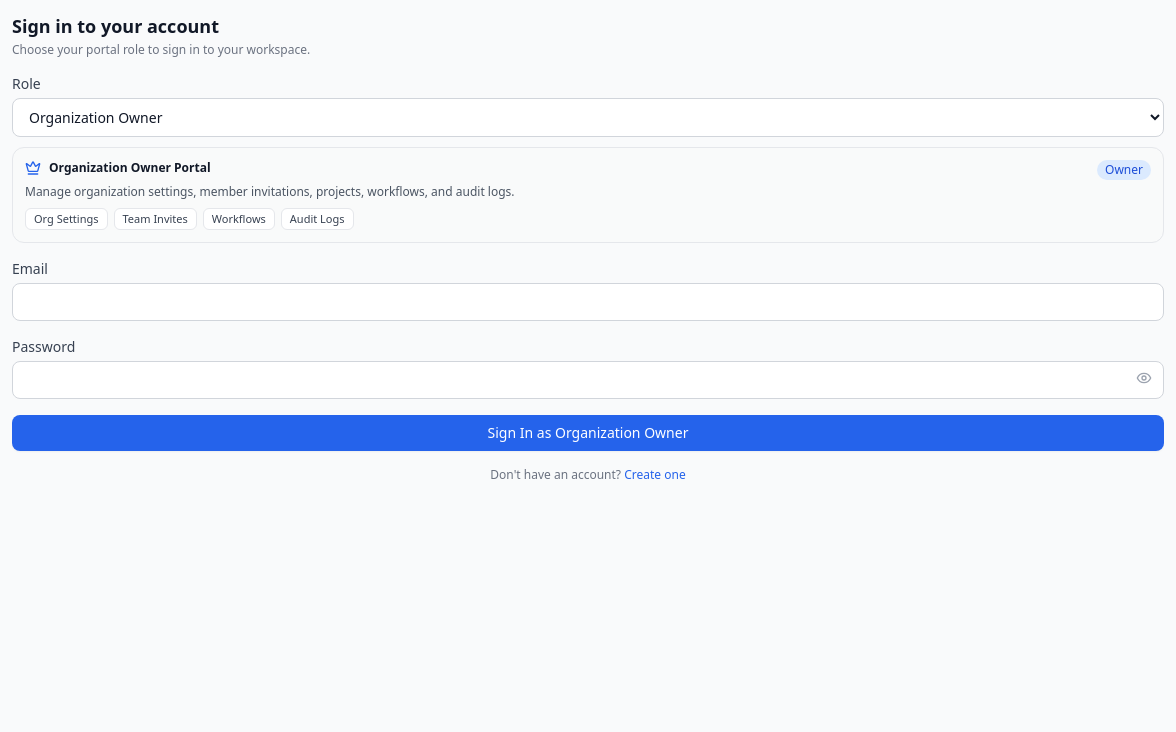
Test: Role-Based Login & Signup Flow › renders Owner, PM, Platform Admin, Team Member, and Auditor options without placeholders and validates input
Expected: the dropdown labelled "Role" shows "Organization Owner", x1=12 y1=98 x2=1164 y2=137
Click the button "Sign In as Organization Owner".
click(588, 433)  # box x1=12 y1=415 x2=1164 y2=451
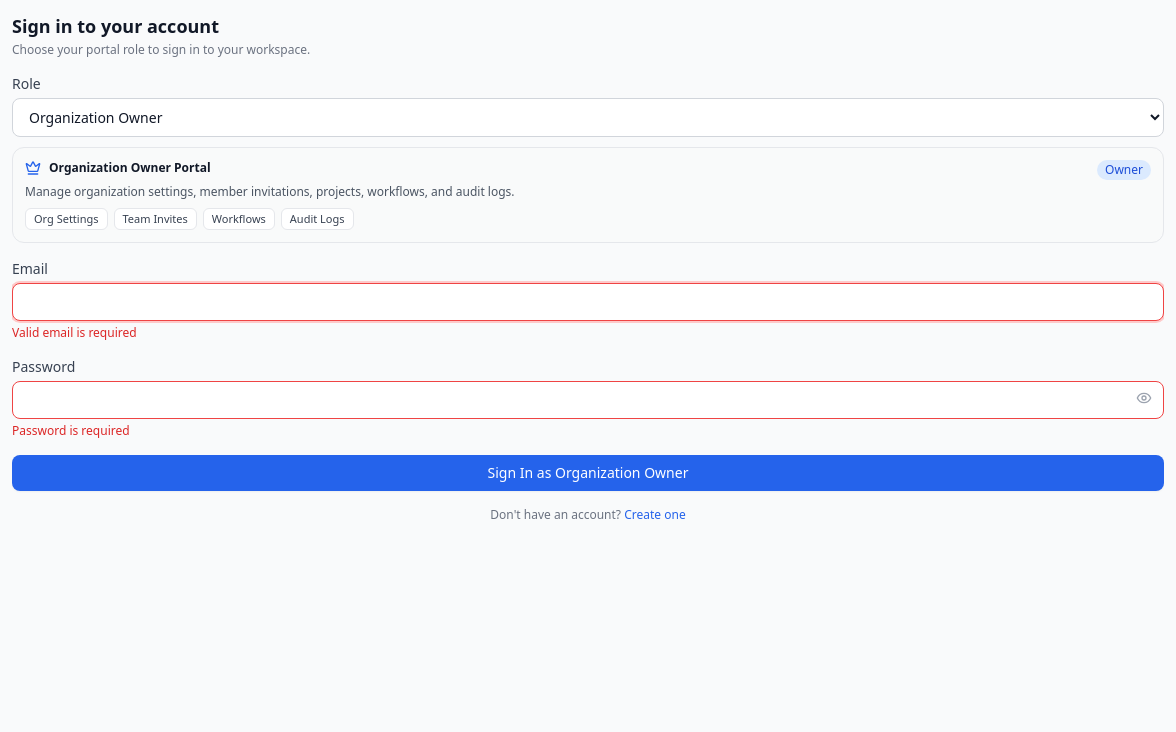
Result: the text "Valid email is required" is shown at x1=12 y1=324 x2=137 y2=341
Result: the text "Password is required" is shown at x1=12 y1=422 x2=130 y2=439
